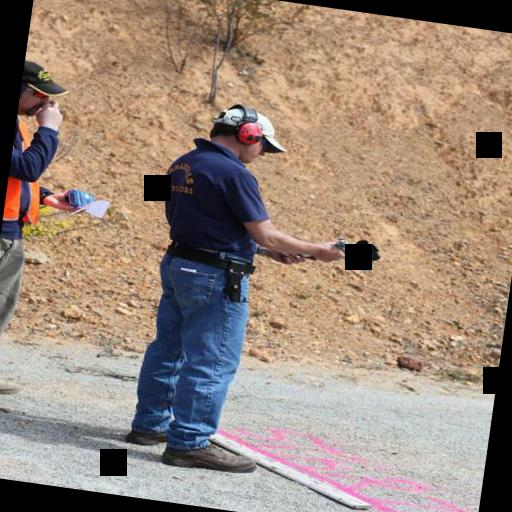Handgun: (322, 232, 382, 274)
